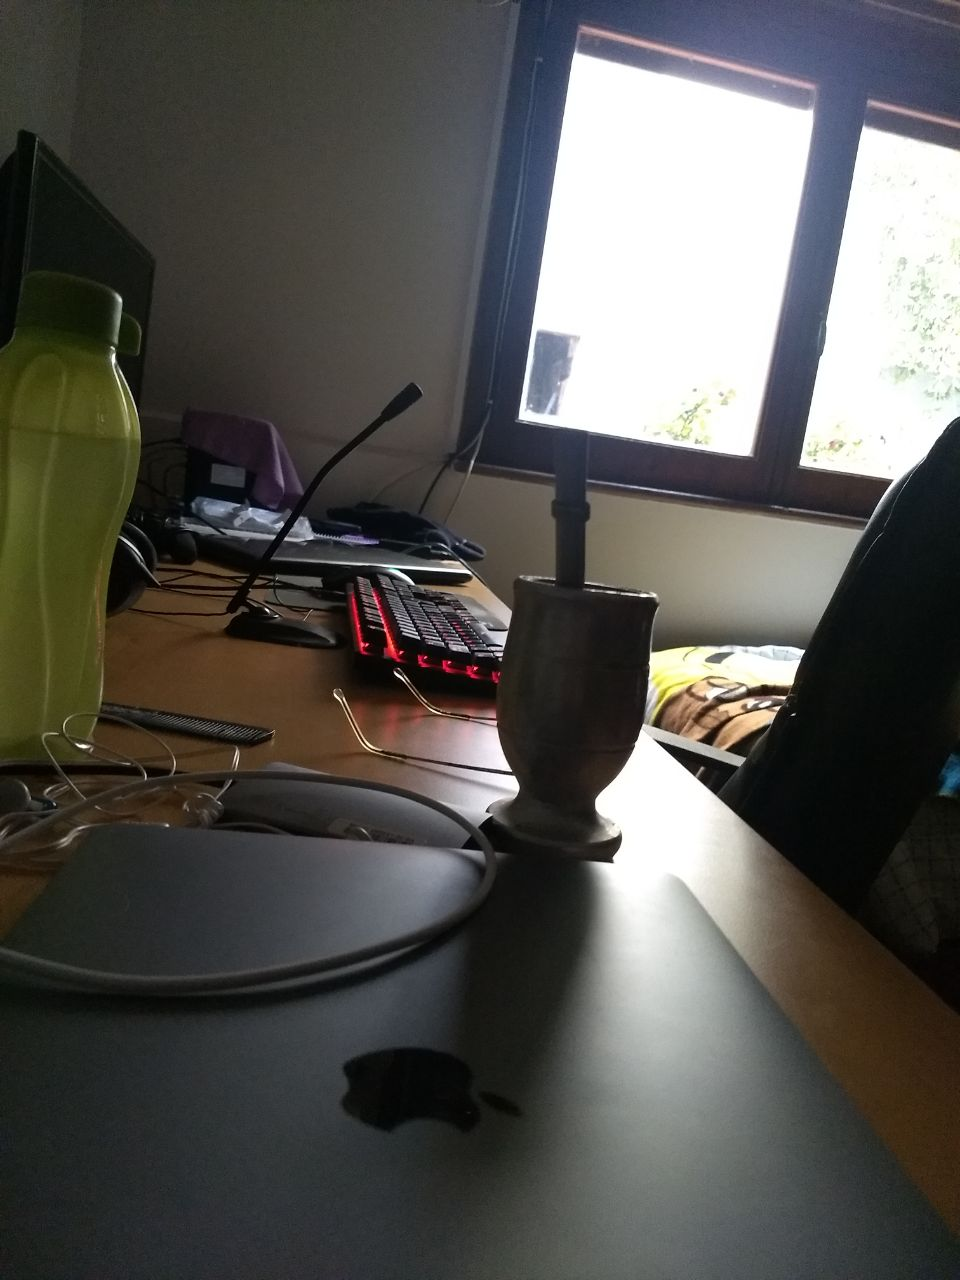mate: (490, 426, 659, 865)
metal: (488, 424, 658, 863)
